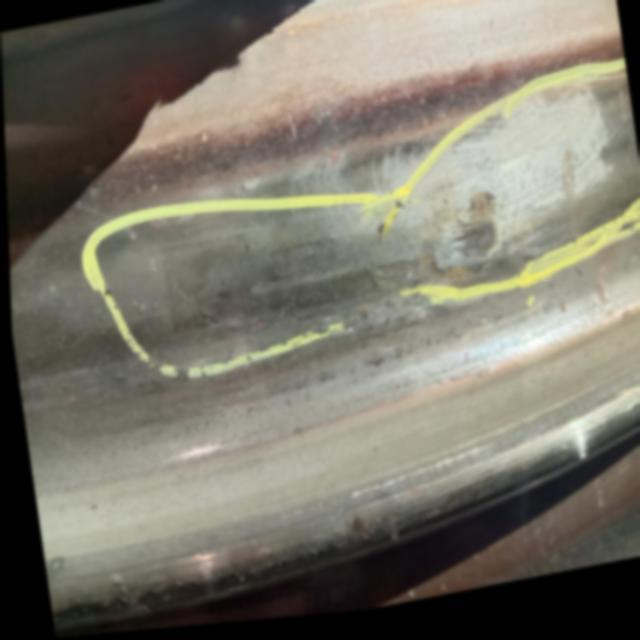Brake_Thermal_Cracks: (552, 150, 594, 256)
Peeling: (456, 188, 504, 282)
